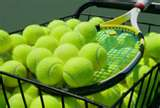tennis ball: (32, 55, 68, 87), (63, 57, 96, 89), (76, 43, 107, 70), (1, 59, 27, 89), (71, 19, 98, 44), (23, 23, 45, 45), (59, 32, 84, 51), (1, 28, 13, 56)
